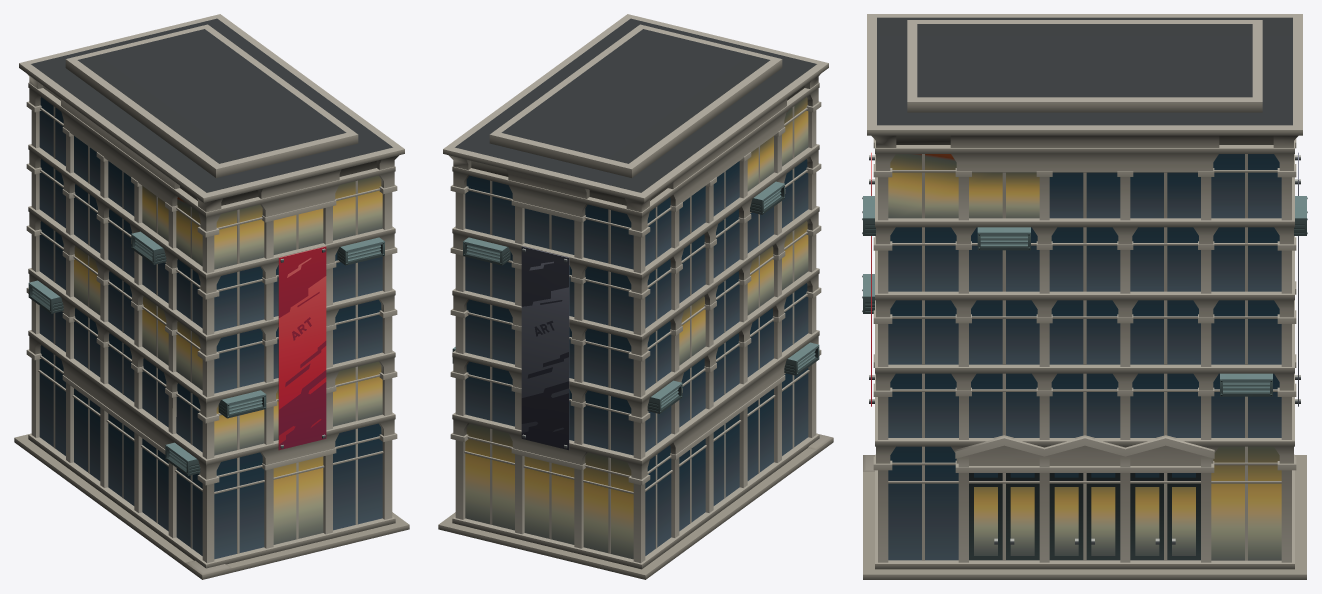
File: Building_11B.fbx
3 views of the same model, side by side, from view 1: azimuth 30°, elevation 25°; view 2: azimuth 150°, elevation 25°; view 3: azimuth 270°, elevation 25° (orthographic). The views are drawn at different scales.
Parts seen in each view (by area): view 1: Building_11B, Window_Lights_11B, Branding_11B, Air_Conditioner_11B; view 2: Building_11B, Window_Lights_11B, Branding_11B, Air_Conditioner_11B; view 3: Building_11B, Window_Lights_11B, Air_Conditioner_11B, Branding_11B.
Part boxes in pixels (x1,y1,x2,y2): Building_11B: [14, 14, 409, 579]; Window_Lights_11B: [74, 175, 382, 544]; Branding_11B: [278, 246, 326, 450]; Air_Conditioner_11B: [28, 231, 384, 475]; Building_11B: [438, 14, 833, 579]; Window_Lights_11B: [465, 97, 808, 559]; Branding_11B: [521, 246, 569, 450]; Air_Conditioner_11B: [452, 181, 819, 413]; Building_11B: [863, 14, 1306, 579]; Window_Lights_11B: [888, 154, 1281, 560]; Air_Conditioner_11B: [862, 196, 1307, 396]; Branding_11B: [869, 152, 1300, 406].
Bounding box in the file's own units: 1408 × 2513 × 2208.
